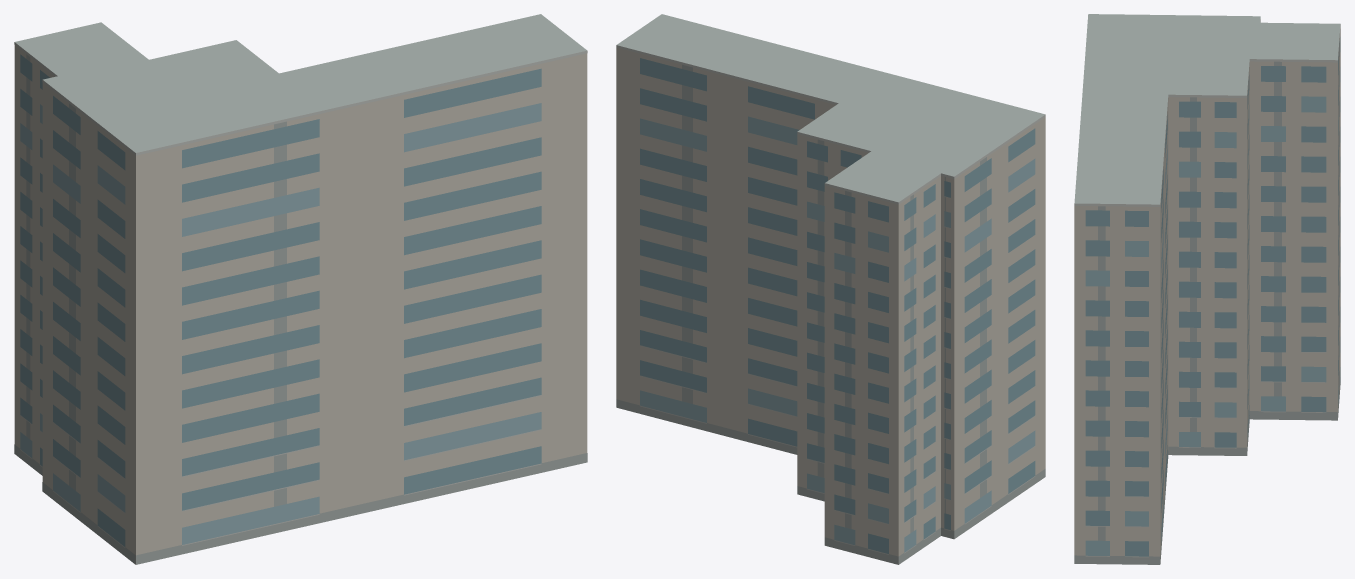
File: residential-9d9d0bc6-4e06-4f74-a39d-d5e6378499e8.glb
The picture shows the model from 3 angles, left to right: view 1: azimuth 30°, elevation 25°; view 2: azimuth 150°, elevation 25°; view 3: azimuth 270°, elevation 25°; orthographic projection. The views are drawn at different scales.
Parts seen in each view (by area): view 1: residential-9d9d0bc6-4e06-4f74-a39d-d5e6378499e8.tmp; view 2: residential-9d9d0bc6-4e06-4f74-a39d-d5e6378499e8.tmp; view 3: residential-9d9d0bc6-4e06-4f74-a39d-d5e6378499e8.tmp.
Boxes of the visible parts, bbox=[...] form: residential-9d9d0bc6-4e06-4f74-a39d-d5e6378499e8.tmp: bbox=[14, 14, 587, 564]; residential-9d9d0bc6-4e06-4f74-a39d-d5e6378499e8.tmp: bbox=[616, 14, 1045, 564]; residential-9d9d0bc6-4e06-4f74-a39d-d5e6378499e8.tmp: bbox=[1074, 14, 1340, 564].
Bounding box in the file's own units: 41.98 × 37 × 24.77.
